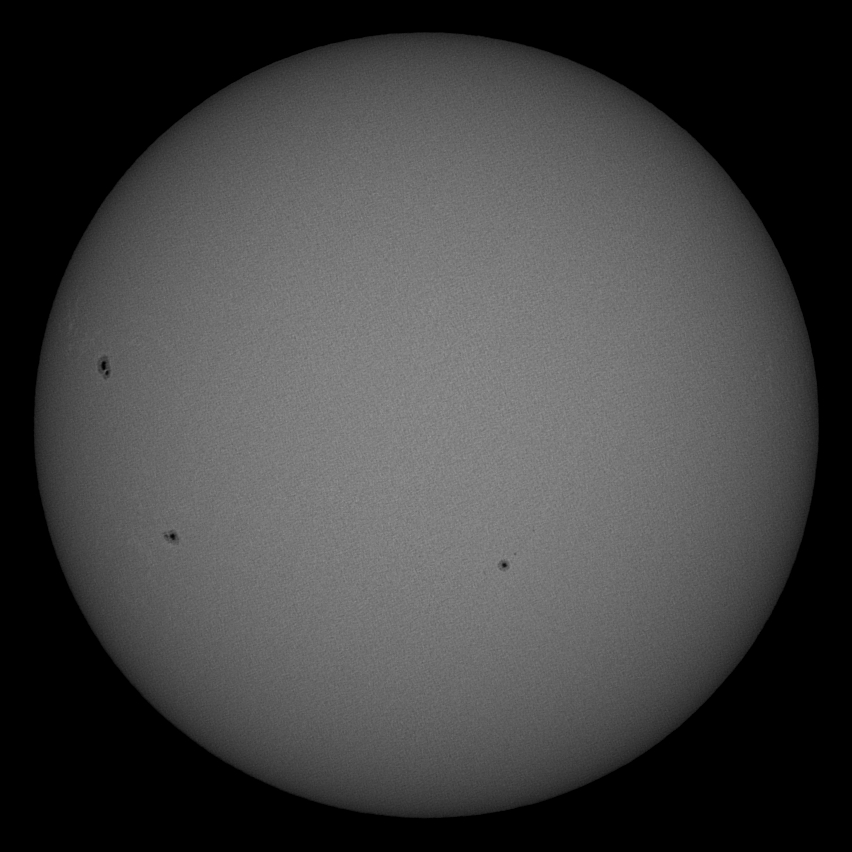sunspot: (92, 352, 117, 381), (158, 526, 184, 544), (492, 556, 513, 571)
